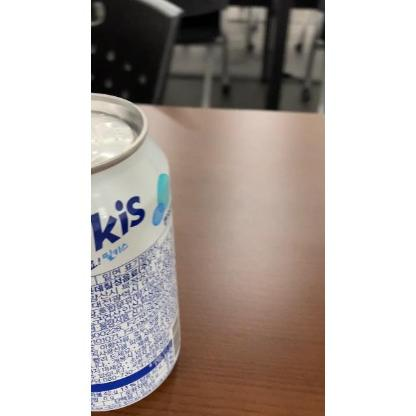Can: (90, 91, 182, 414)
